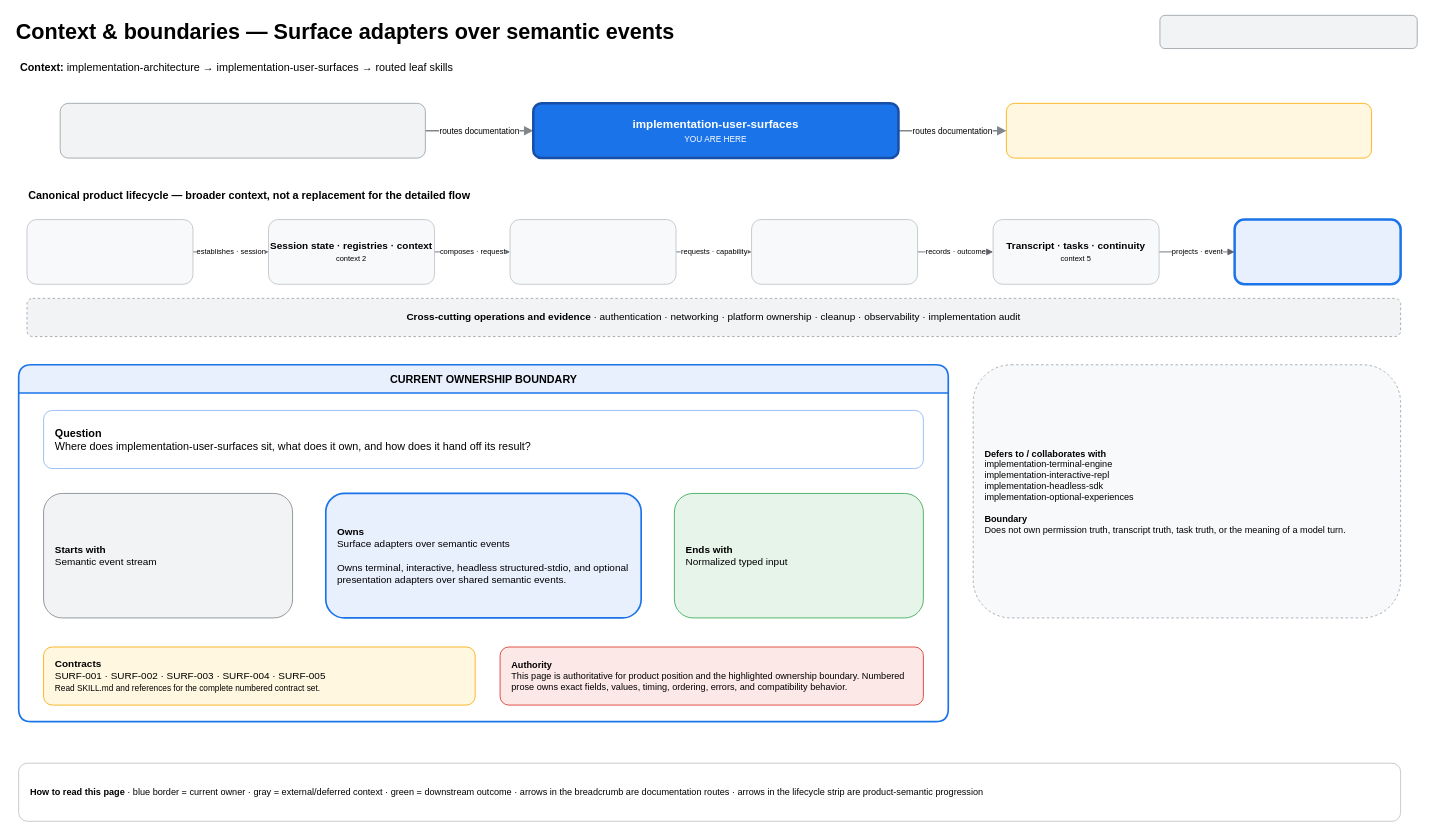
Some shapes in this 1432 by 836 pixel diagram are drawn without their labels. The shapes that lost their labels are listed below. From the top down, each one's centre as x and y in pixels, then its label:
At (1288,32): "architecture overview · template 2.0-context-flow".
At (242,130): "implementation-architecture documentation route".
At (1189,130): "routed leaf skills routed downstream".
At (109,251): "Entrypoint · identity · policy context 1".
At (592,251): "Query engine · model stream context 3".
At (834,251): "Capability decision · execution context 4".
At (1317,251): "Surface · remote projection YOU ARE HERE".
